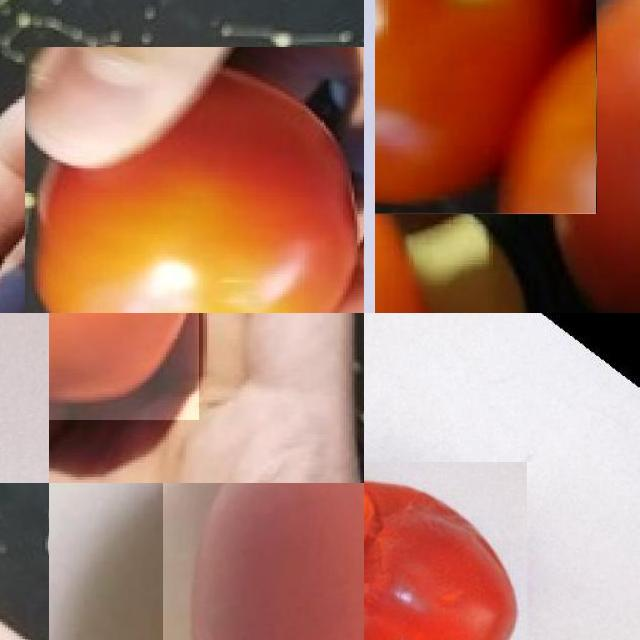0: (25, 47, 364, 313), (375, 0, 596, 213), (521, 0, 640, 313)
Fresh Tomato: (163, 483, 364, 640)
Rotten Tomato: (364, 462, 529, 640), (49, 313, 198, 419)
